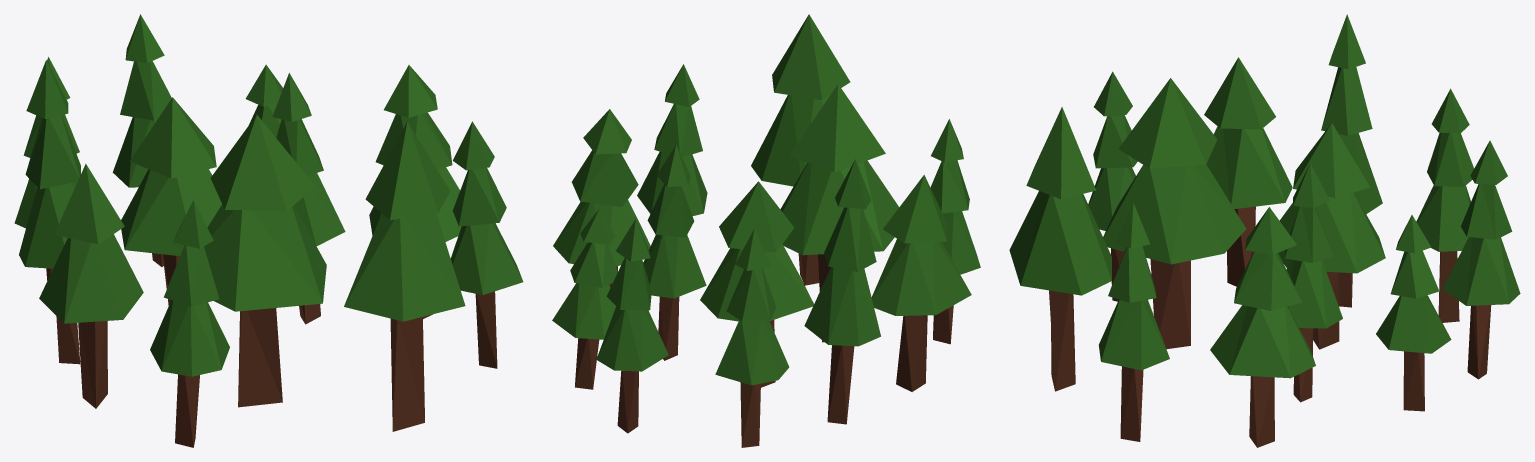
Rendered from Forest7_x3.dae.
3 views of the same model, side by side, from view 1: azimuth 30°, elevation 25°; view 2: azimuth 150°, elevation 25°; view 3: azimuth 270°, elevation 25° (orthographic). The views are drawn at different scales.
Parts seen in each view (by area): view 1: Cylinder_026; view 2: Cylinder_026; view 3: Cylinder_026.
Part boxes in pixels (box(x1,y1,x2,y2)): Cylinder_026: box(14, 14, 523, 447); Cylinder_026: box(552, 14, 980, 447); Cylinder_026: box(1009, 14, 1520, 447).
Size of the model in its own units: 1.51 by 1.68 by 1.02.
